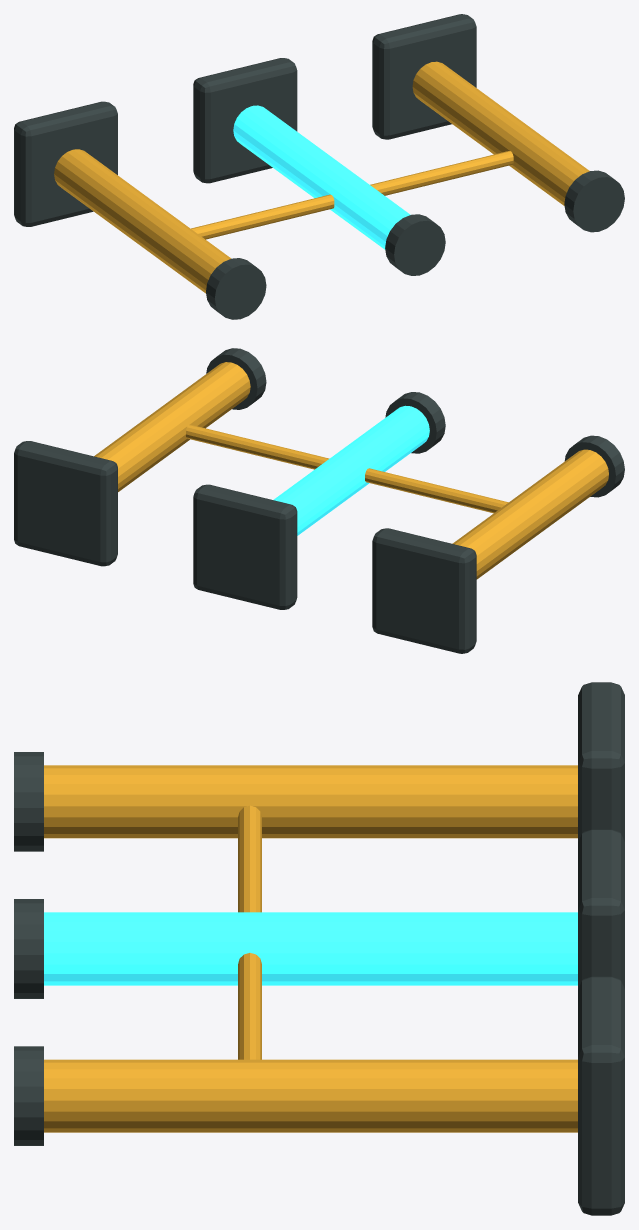
Rendered from safety_bollards.glb.
3 renders of one model, top to bottom at view 1: azimuth 30°, elevation 25°; view 2: azimuth 150°, elevation 25°; view 3: azimuth 270°, elevation 25°, orthographic. The views are drawn at different scales.
Visible parts, largest first — view 1: bollard_foot_2, bollard_foot_1, bollard_foot_0, bollard_post_0, bollard_post_2, bollard_post_1, bollard_cap_2, bollard_cap_0, bollard_cap_1, bollard_chain_1, bollard_chain_0; view 2: bollard_foot_0, bollard_foot_1, bollard_foot_2, bollard_post_0, bollard_post_1, bollard_post_2, bollard_chain_0, bollard_chain_1, bollard_cap_2, bollard_cap_1, bollard_cap_0; view 3: bollard_post_2, bollard_post_1, bollard_post_0, bollard_foot_2, bollard_foot_1, bollard_foot_0, bollard_cap_0, bollard_cap_1, bollard_cap_2, bollard_chain_0, bollard_chain_1.
Part boxes in pixels (x1=…): bollard_foot_2: x1=372, y1=14, x2=476, y2=139; bollard_foot_1: x1=193, y1=58, x2=297, y2=183; bollard_foot_0: x1=14, y1=101, x2=117, y2=226; bollard_post_0: x1=54, y1=149, x2=230, y2=293; bollard_post_2: x1=412, y1=61, x2=589, y2=205; bollard_post_1: x1=233, y1=105, x2=410, y2=249; bollard_cap_2: x1=564, y1=170, x2=624, y2=232; bollard_cap_0: x1=206, y1=258, x2=266, y2=319; bollard_cap_1: x1=385, y1=214, x2=445, y2=275; bollard_chain_1: x1=370, y1=151, x2=513, y2=195; bollard_chain_0: x1=191, y1=194, x2=334, y2=239; bollard_foot_0: x1=372, y1=528, x2=476, y2=653; bollard_foot_1: x1=193, y1=484, x2=297, y2=609; bollard_foot_2: x1=14, y1=441, x2=117, y2=566; bollard_post_0: x1=452, y1=449, x2=608, y2=579; bollard_post_1: x1=273, y1=405, x2=429, y2=535; bollard_post_2: x1=94, y1=362, x2=250, y2=491; bollard_chain_0: x1=365, y1=468, x2=508, y2=513; bollard_chain_1: x1=186, y1=424, x2=329, y2=469; bollard_cap_2: x1=206, y1=348, x2=266, y2=409; bollard_cap_1: x1=385, y1=392, x2=445, y2=453; bollard_cap_0: x1=564, y1=435, x2=624, y2=497; bollard_post_2: x1=44, y1=1059, x2=577, y2=1132; bollard_post_1: x1=44, y1=912, x2=577, y2=985; bollard_post_0: x1=44, y1=765, x2=577, y2=838; bollard_foot_2: x1=578, y1=976, x2=624, y2=1215; bollard_foot_1: x1=578, y1=829, x2=624, y2=988; bollard_foot_0: x1=578, y1=682, x2=624, y2=841; bollard_cap_0: x1=14, y1=752, x2=43, y2=851; bollard_cap_1: x1=14, y1=899, x2=43, y2=998; bollard_cap_2: x1=14, y1=1046, x2=43, y2=1145; bollard_chain_0: x1=238, y1=805, x2=261, y2=912; bollard_chain_1: x1=238, y1=953, x2=261, y2=1059.
Bounding box in the file's own units: 1.32 × 0.28 × 0.9125.
